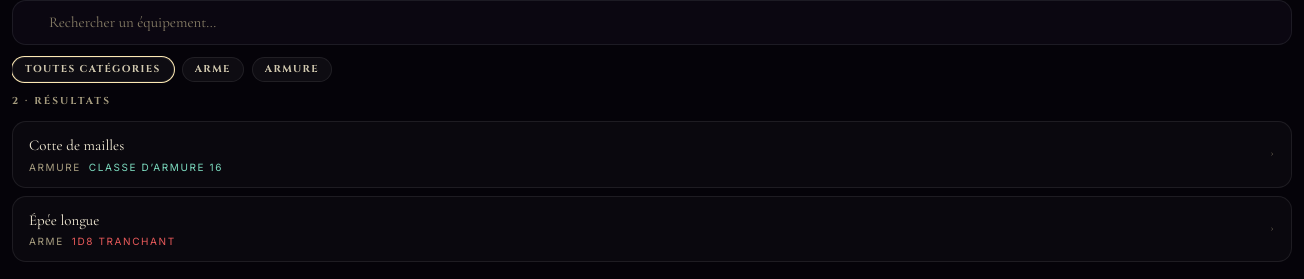
Test: ItemBrowser (Codex) › liste + filtre par catégorie
This screenshot has width=1304, height=279.
Check: the text "Épée longue" is shown, box [29,210,99,228]
Check: the text "Cotte de mailles" is shown, box [29,136,124,154]
Click the button "Armure".
click(292, 70)  # box [252,57,332,82]
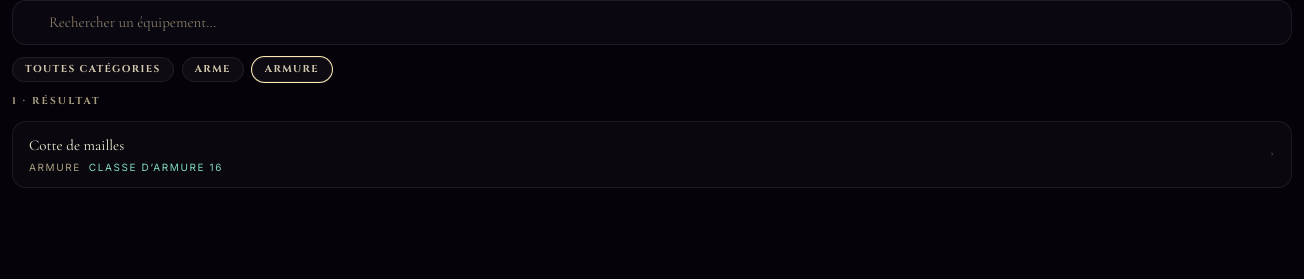
Check: the text "Cotte de mailles" is shown, box [29,136,124,154]
Check: the button "Épée longue" is gone
